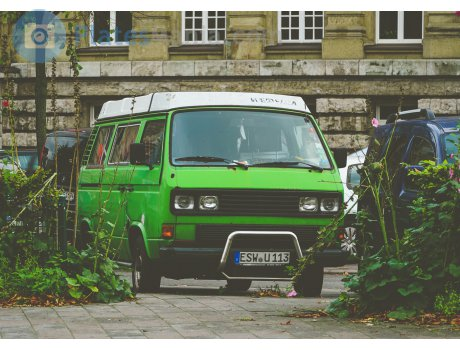License Plates: (238, 248, 289, 262)
